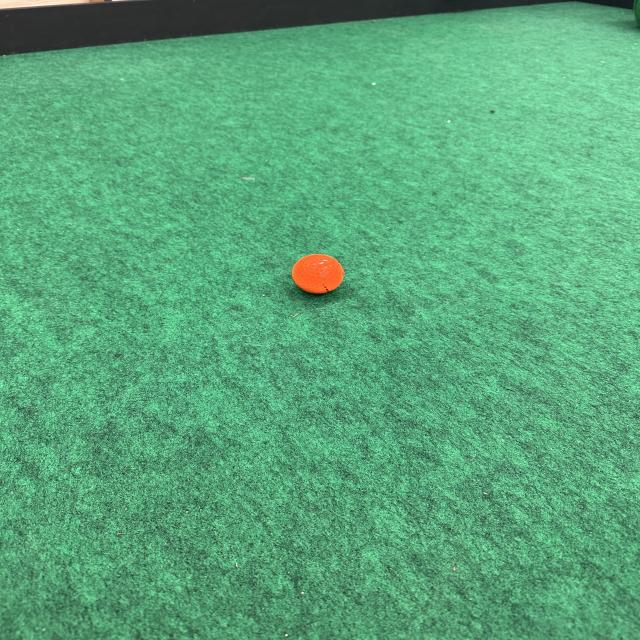ball: (290, 253, 346, 296)
